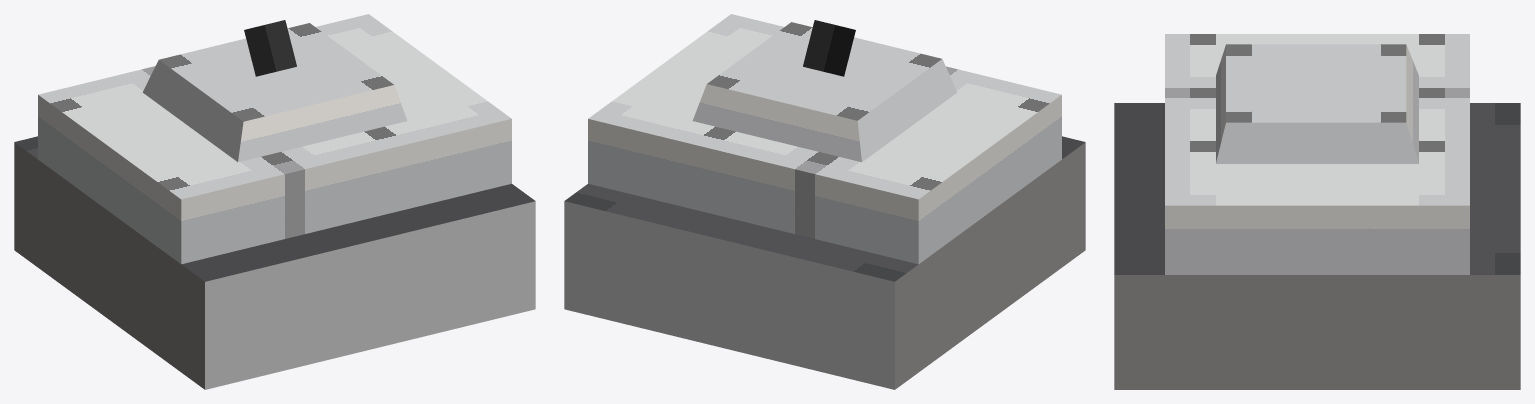
File: crh2a_carport_mid_antenna2.obj
3 renders of one model, left to right at view 1: azimuth 30°, elevation 25°; view 2: azimuth 150°, elevation 25°; view 3: azimuth 270°, elevation 25°, orthographic. The views are drawn at different scales.
Parts seen in each view (by area): view 1: mesh, carport_top; view 2: mesh, carport_top; view 3: mesh, carport_top.
Part boxes in pixels (x1,y1,x2,y2): mesh: (38,14,511,264); carport_top: (14,136,535,389); mesh: (588,14,1061,264); carport_top: (564,136,1085,389); mesh: (1165,34,1469,274); carport_top: (1114,103,1520,389).
Bounding box in the file's own units: 1 × 0.7437 × 1.
